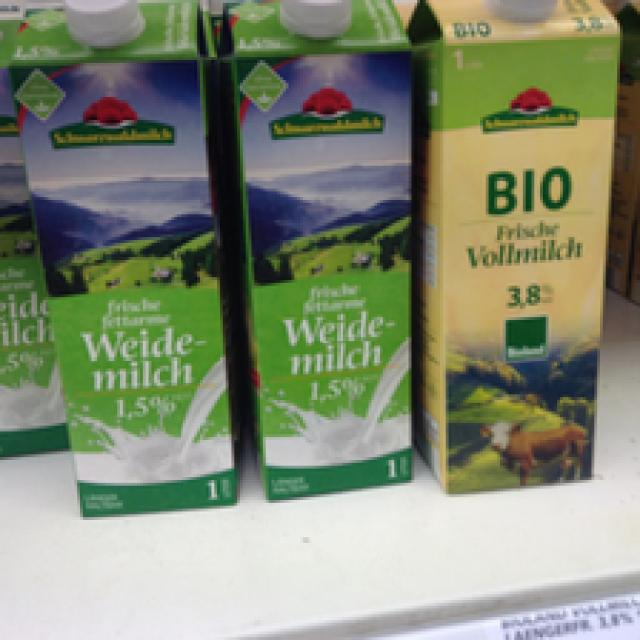groceries: (6, 0, 257, 517), (408, 0, 632, 500), (226, 0, 431, 500)
